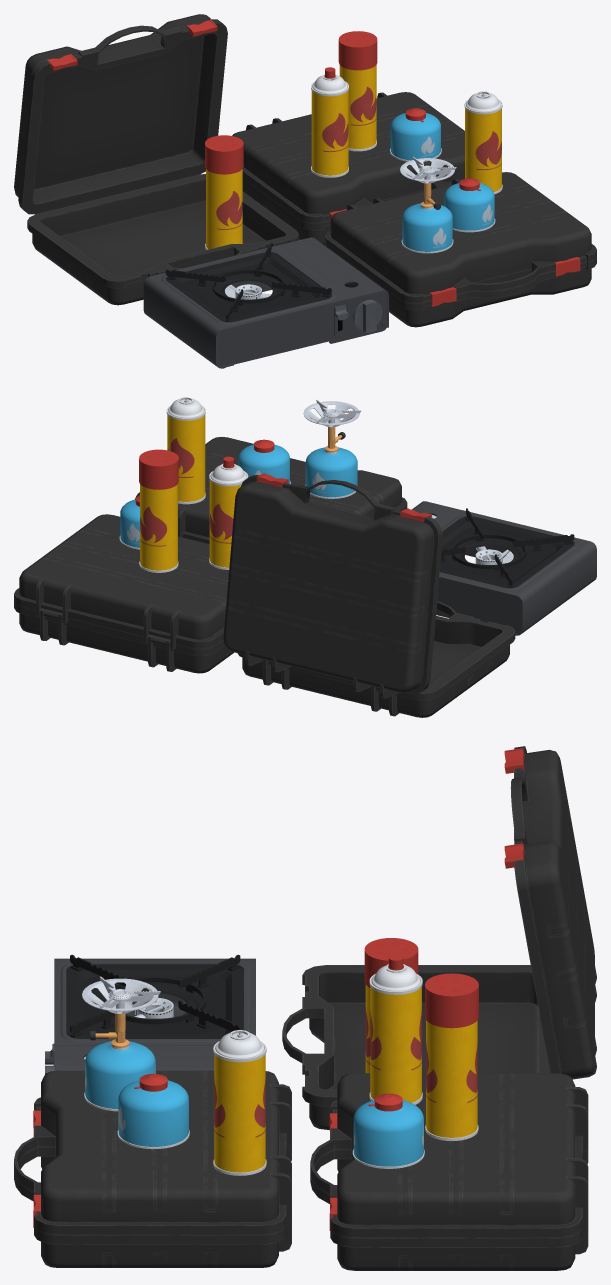
File: PortableStoveAndButaneCan.fbx
3 renders of one model, top to bottom at view 1: azimuth 30°, elevation 25°; view 2: azimuth 150°, elevation 25°; view 3: azimuth 270°, elevation 25°, orthographic. The views are drawn at different scales.
Parts seen in each view (by area): view 1: Case_Open, Burner_A, Case_A, Case_Close, Case_B, ButCan_A_Close_A, ButCan_A_Close_B, ButCan_A_open, Burner_A_Panel, ButCan_A, ButCan_B_close, ButCan_B_open (+3 smaller); view 2: Case_Open, Case_Close, Burner_A, Case_A, ButCan_A_open, ButCan_A, ButCan_A_Close_B, ButCan_B_open, ButCan_B_close, ButCan_A_Cap_A, Burner_B, ButCan_B (+1 smaller); view 3: Case_Close, Case_Open, Case_A, Burner_A, Case_B, ButCan_A_open, ButCan_A_Close_B, ButCan_A, ButCan_B_close, ButCan_B, ButCan_B_open, ButCan_A_Cap_A (+3 smaller).
Part boxes in pixels (x1,y1,x2,y2): Case_Open: (14,14,298,305); Burner_A: (143,244,386,368); Case_A: (325,172,596,303); Case_Close: (232,92,464,245); Case_B: (325,243,596,327); ButCan_A_Close_A: (205,135,243,249); ButCan_A_Close_B: (311,67,348,177); ButCan_A_open: (464,91,502,194); Burner_A_Panel: (276,237,388,328); ButCan_A: (339,65,376,151); ButCan_B_close: (444,178,495,232); ButCan_B_open: (401,203,453,253); Case_Open: (223,473,515,717); Case_Close: (14,514,234,673); Burner_A: (431,508,596,635); Case_A: (135,437,407,543); ButCan_A_open: (166,397,205,504); ButCan_A: (139,484,178,572); ButCan_A_Close_B: (209,456,248,569); ButCan_B_open: (305,447,357,498); ButCan_B_close: (238,439,290,484); ButCan_A_Cap_A: (139,449,178,489); Burner_B: (303,399,361,452); ButCan_B: (119,499,139,549); Case_Close: (310,1073,588,1270); Case_Open: (282,746,596,1129); Case_A: (14,1070,291,1235); Burner_A: (45,954,255,1073); Case_B: (14,1146,291,1267); ButCan_A_open: (213,1030,266,1175); ButCan_A_Close_B: (369,954,422,1104); ButCan_A: (425,1020,478,1140); ButCan_B_close: (117,1073,189,1149); ButCan_B: (352,1100,424,1168); ButCan_B_open: (84,1041,155,1111); ButCan_A_Cap_A: (425,973,478,1028).
Size of the model in its own units: 0.8145 by 0.3973 by 0.7352.
